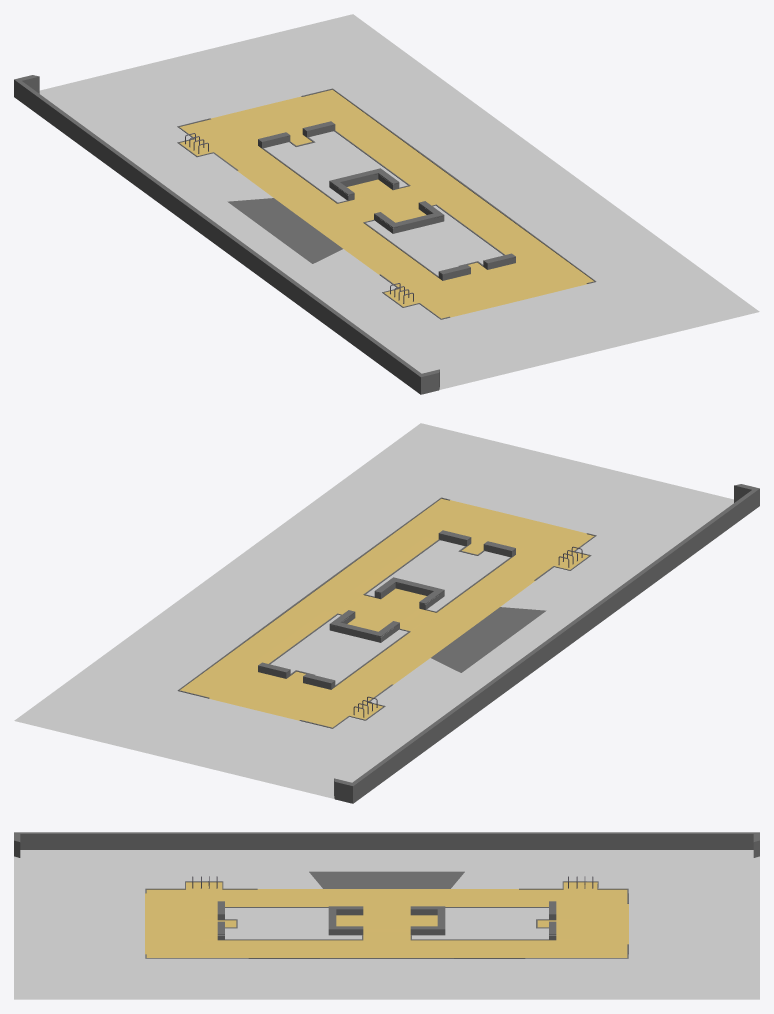
Rendered from Base_cortile.fbx.
The picture shows the model from 3 angles, top to bottom: view 1: azimuth 30°, elevation 25°; view 2: azimuth 150°, elevation 25°; view 3: azimuth 270°, elevation 25°; orthographic projection. The views are drawn at different scales.
Visible parts, largest first — view 1: Cortile; view 2: Cortile; view 3: Cortile.
Part boxes in pixels (x1,y1,x2,y2): Cortile: (14,14,759,394); Cortile: (14,423,759,803); Cortile: (14,832,759,999).
Size of the model in its own units: 7010 by 348 by 14566.
